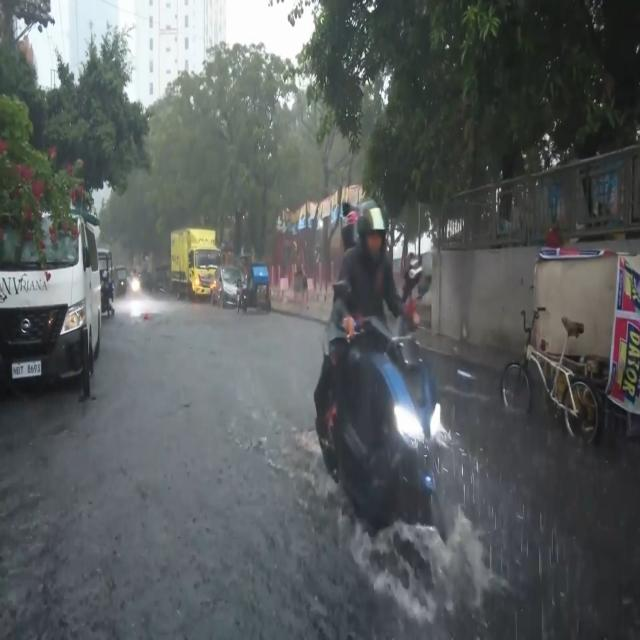half: (356, 201, 390, 262)
invalid: (340, 204, 359, 228)
